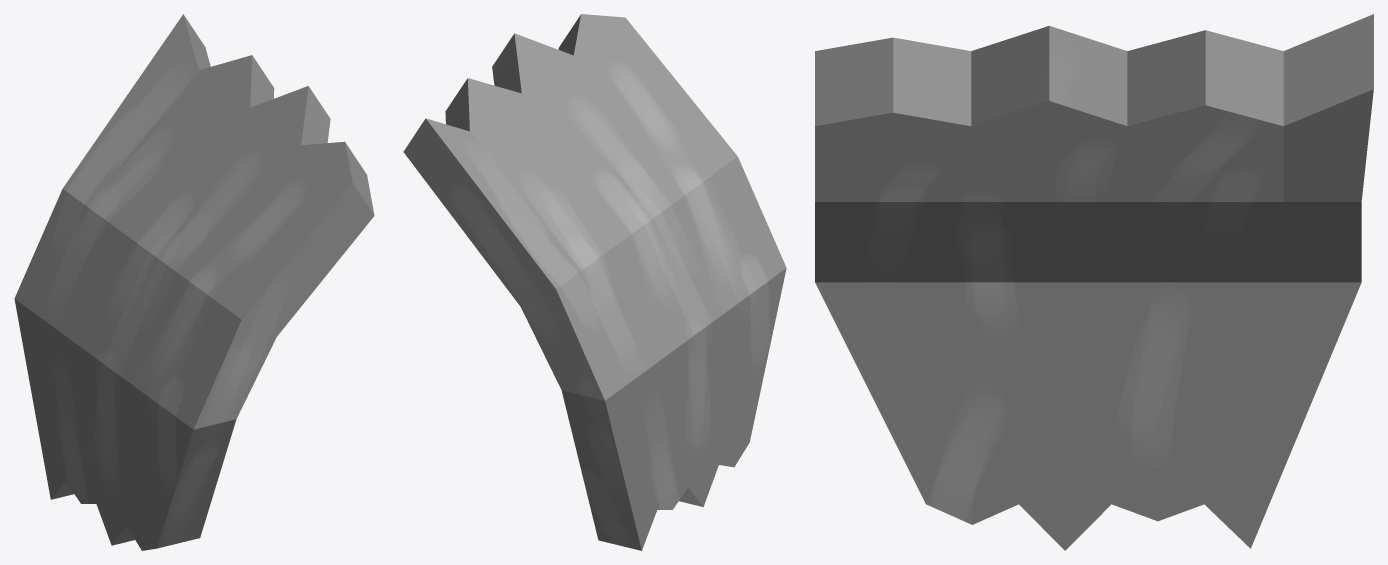
The model's file is Scherf.fbx.
3 views of the same model, side by side, from view 1: azimuth 30°, elevation 25°; view 2: azimuth 150°, elevation 25°; view 3: azimuth 270°, elevation 25° (orthographic). The views are drawn at different scales.
Visible parts, largest first — view 1: Cube; view 2: Cube; view 3: Cube.
Part boxes in pixels (x1,y1,x2,y2): Cube: (14,14,374,550); Cube: (403,14,786,550); Cube: (815,14,1373,550).
Size of the model in its own units: 138 by 257 by 204.
